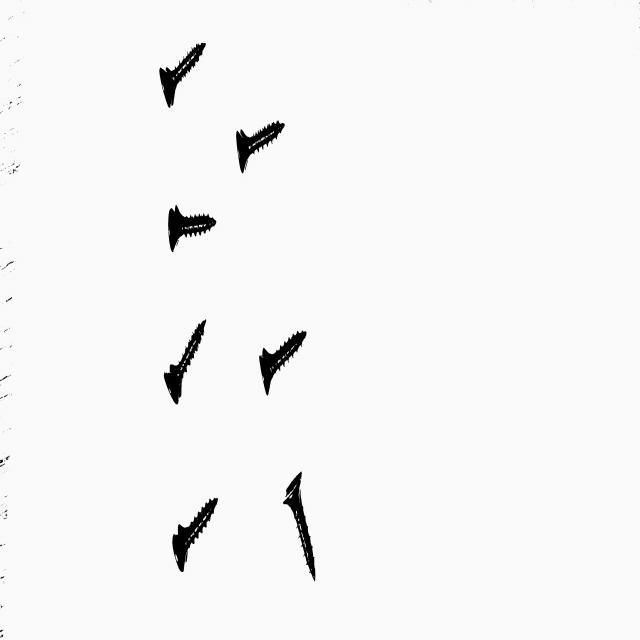Screw: (163, 318, 206, 403), (283, 471, 316, 580), (172, 497, 217, 572), (259, 330, 306, 394), (159, 41, 205, 105), (236, 119, 285, 171), (168, 203, 215, 249)
